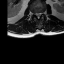CCS_normal: (37, 10, 39, 20)
LFS_stenosis: (41, 10, 44, 16)
LLS_normal: (39, 10, 41, 17)
RFS_stenosis: (32, 10, 34, 17)
RLS_normal: (34, 10, 37, 17)
